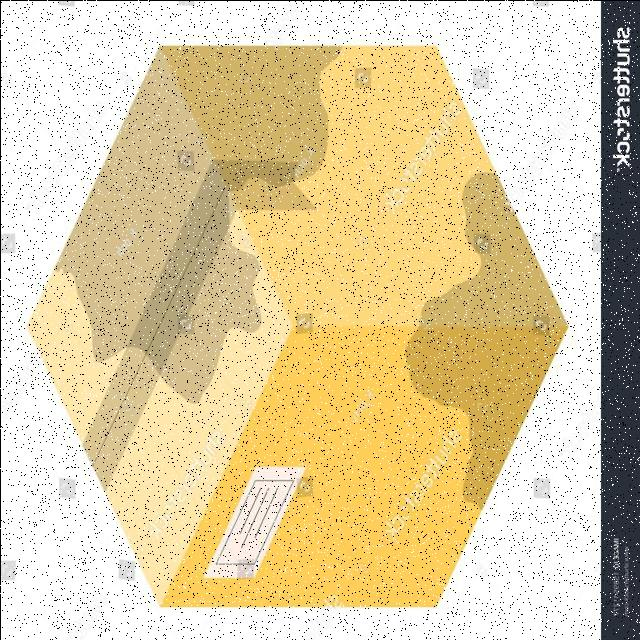defect: (19, 46, 567, 614)
